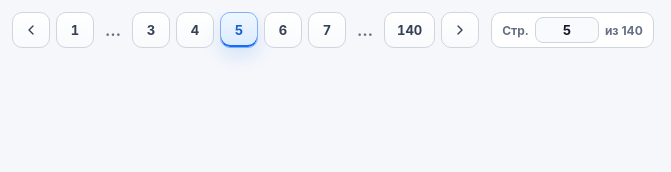
Scenario: Pagination › supports a clamped quick jump for large result sets
Replace the text in the field named "Перейти к странице" with "999" at (567,30), box [535,17,599,43]
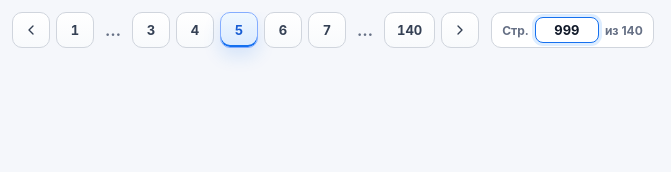
Submit the form named "Перейти к странице", box [491,12,654,48]
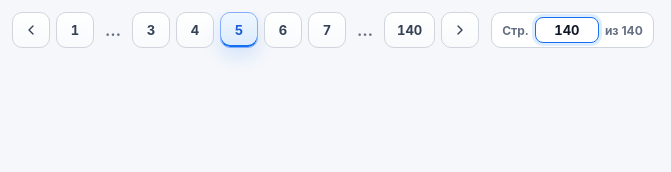
Check: the field named "Перейти к странице" holds "140", box [535,17,599,43]
